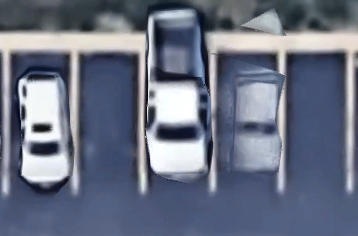Occupied: (142, 46, 213, 193), (6, 46, 76, 192), (213, 46, 282, 192)
Vacant: (281, 46, 350, 191), (75, 46, 143, 193)
